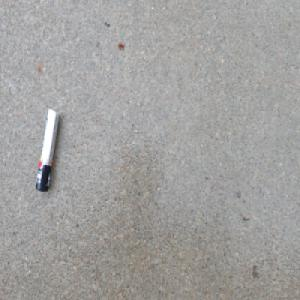Battery: (36, 106, 62, 194)
